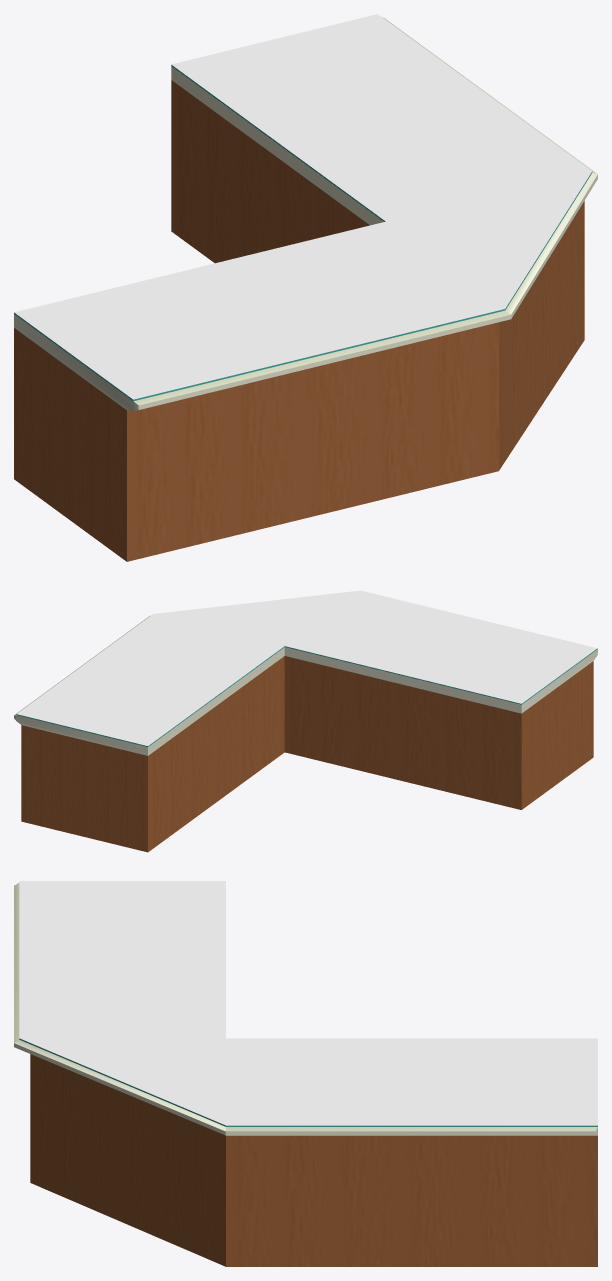
Rendered from Counter_B.FBX.
3 views of the same model, one above another, from view 1: azimuth 30°, elevation 25°; view 2: azimuth 150°, elevation 25°; view 3: azimuth 270°, elevation 25° (orthographic). The views are drawn at different scales.
Visible parts, largest first — view 1: Countertop_B; view 2: Countertop_B; view 3: Countertop_B.
Boxes of the visible parts, left/top/right/bottom form: Countertop_B: left=14, top=14, right=597, bottom=561; Countertop_B: left=14, top=590, right=597, bottom=852; Countertop_B: left=14, top=881, right=597, bottom=1266.
Size of the model in its own units: 549 by 150 by 550.
